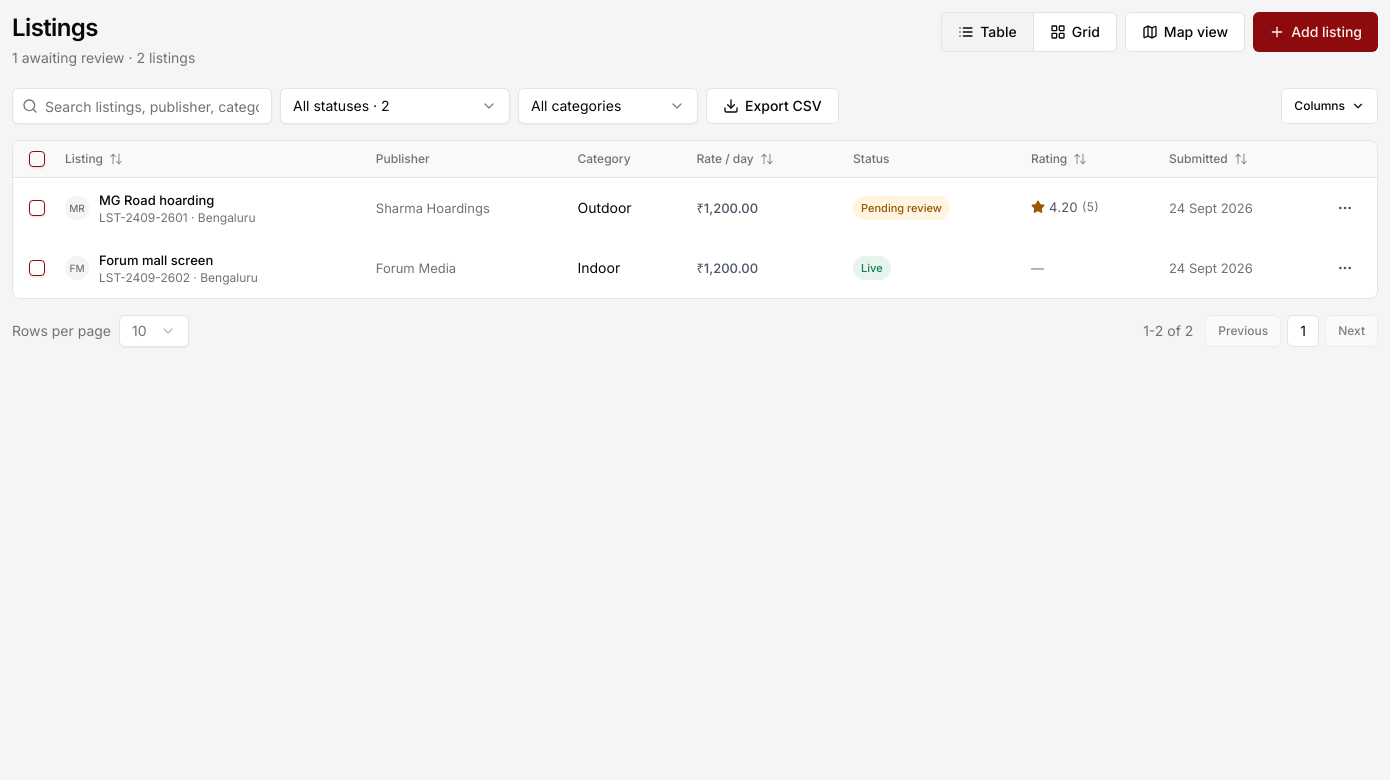
Test: the Table / Grid toggle › sits in the header beside Map view, opens on the table, and remembers the grid
This screenshot has width=1390, height=780.
Click the button "Grid".
click(1075, 32)  # box left=1033, top=12, right=1117, bottom=52
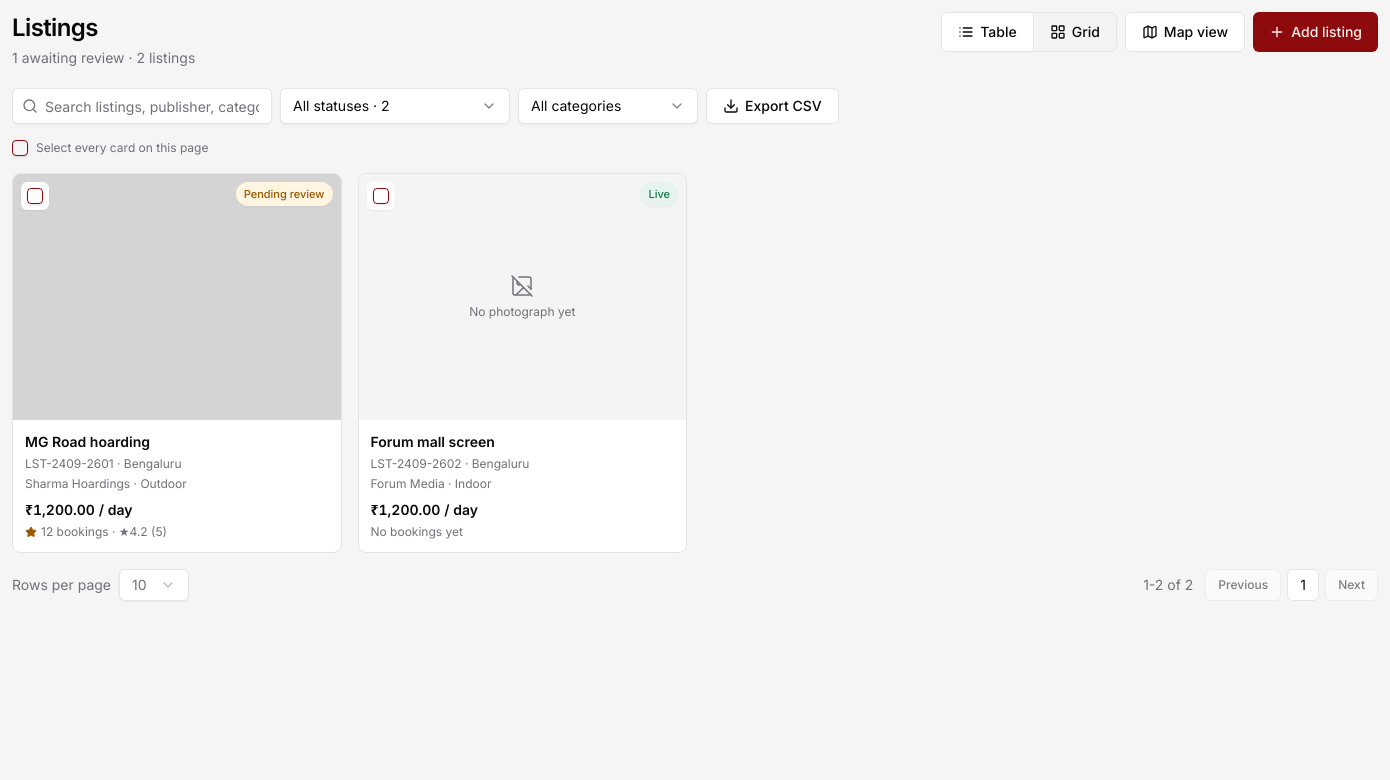
Expected: the element with test id "data-grid" is shown, left=12, top=140, right=687, bottom=553
